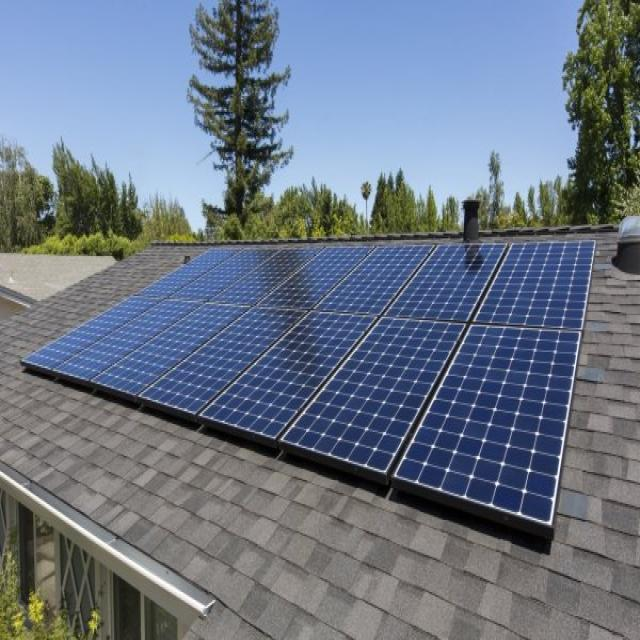clean-solar-panel: (20, 241, 596, 525)
